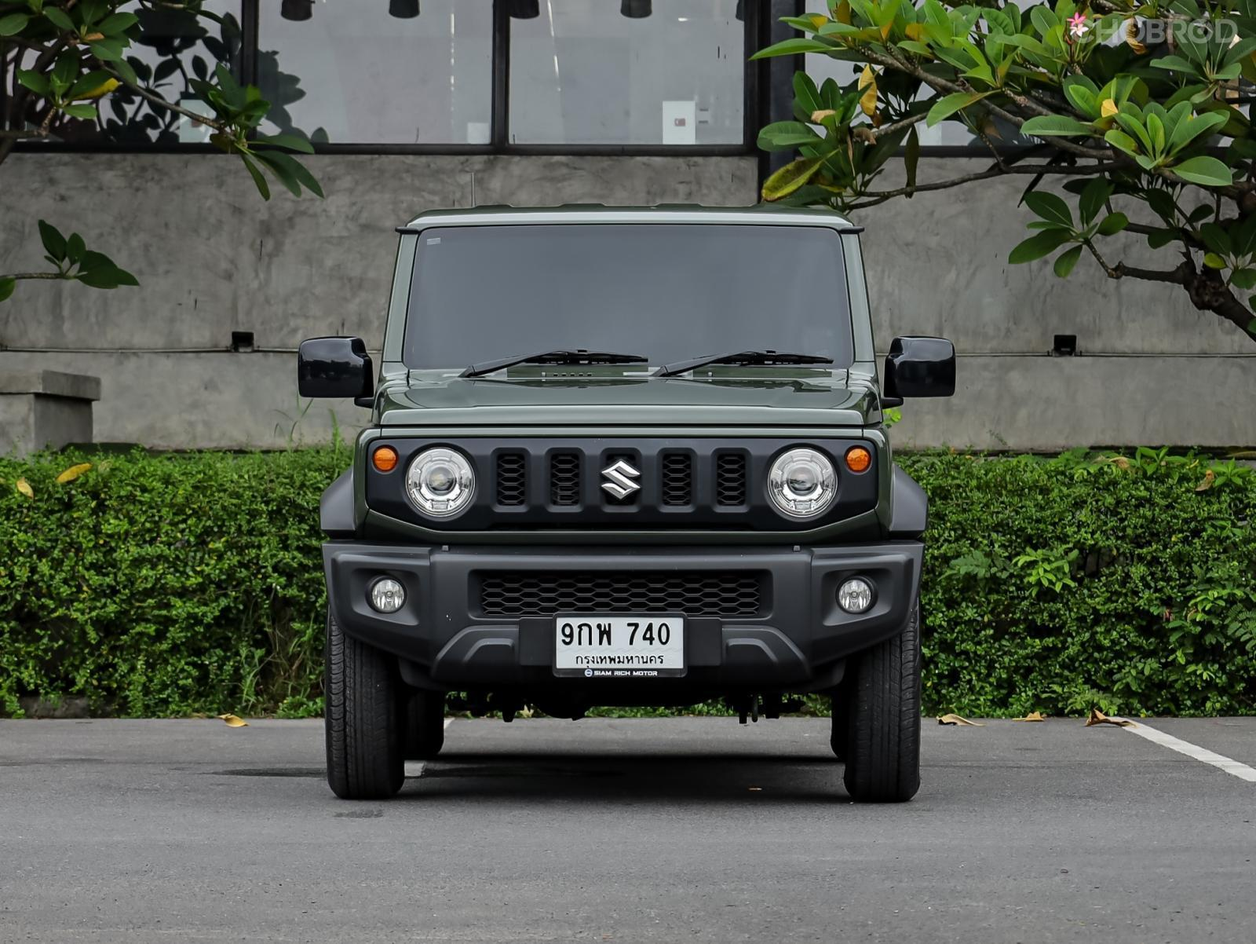license-plate: (553, 613, 686, 681)
